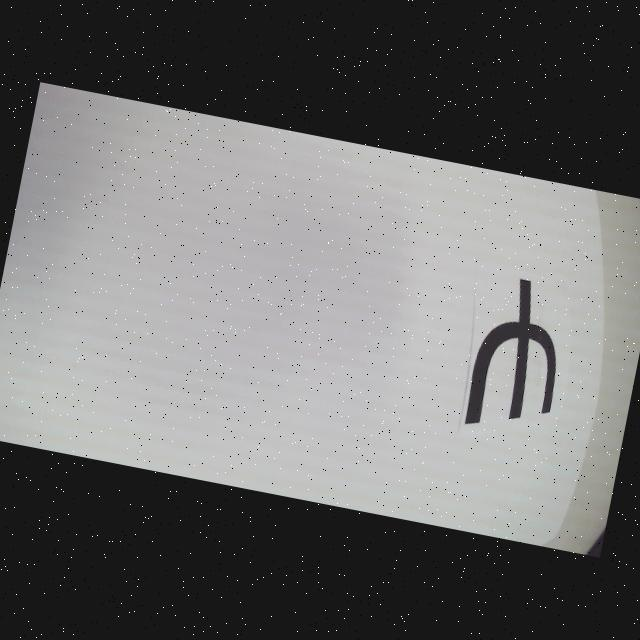PSI: (464, 273, 575, 441)
